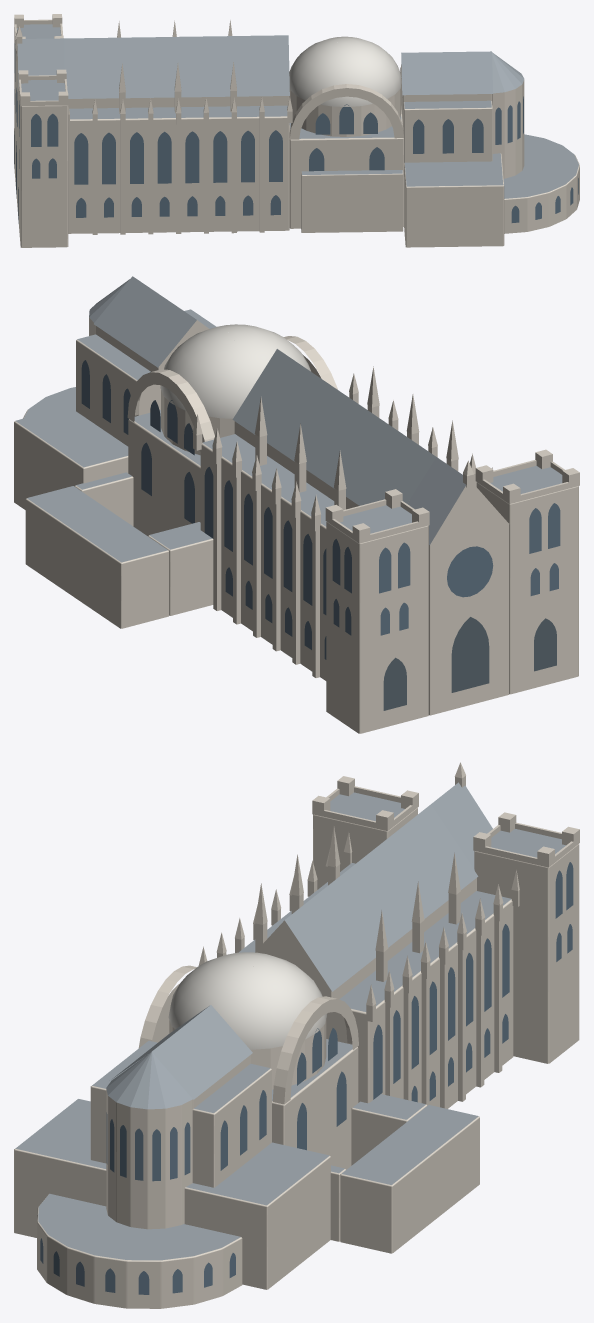
The picture shows the model from 3 angles, top to bottom: view 1: azimuth 30°, elevation 25°; view 2: azimuth 150°, elevation 25°; view 3: azimuth 270°, elevation 25°; orthographic projection. The views are drawn at different scales.
Parts seen in each view (by area): view 1: cathedral-of-st-john-the-divine; view 2: cathedral-of-st-john-the-divine; view 3: cathedral-of-st-john-the-divine.
Boxes of the visible parts, box(x1,y1,x2,y2) form: cathedral-of-st-john-the-divine: box(14, 14, 579, 247); cathedral-of-st-john-the-divine: box(14, 276, 579, 733); cathedral-of-st-john-the-divine: box(14, 762, 579, 1308).
Size of the model in its own units: 173 by 63 by 128.
